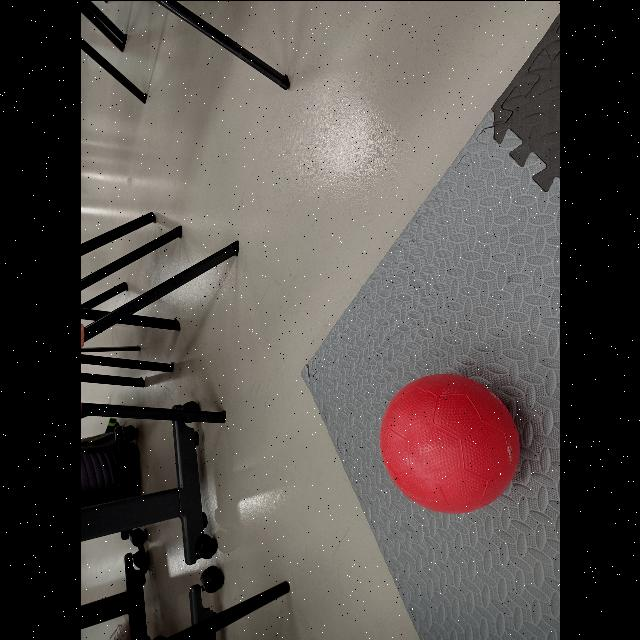R: (378, 374, 520, 512)
